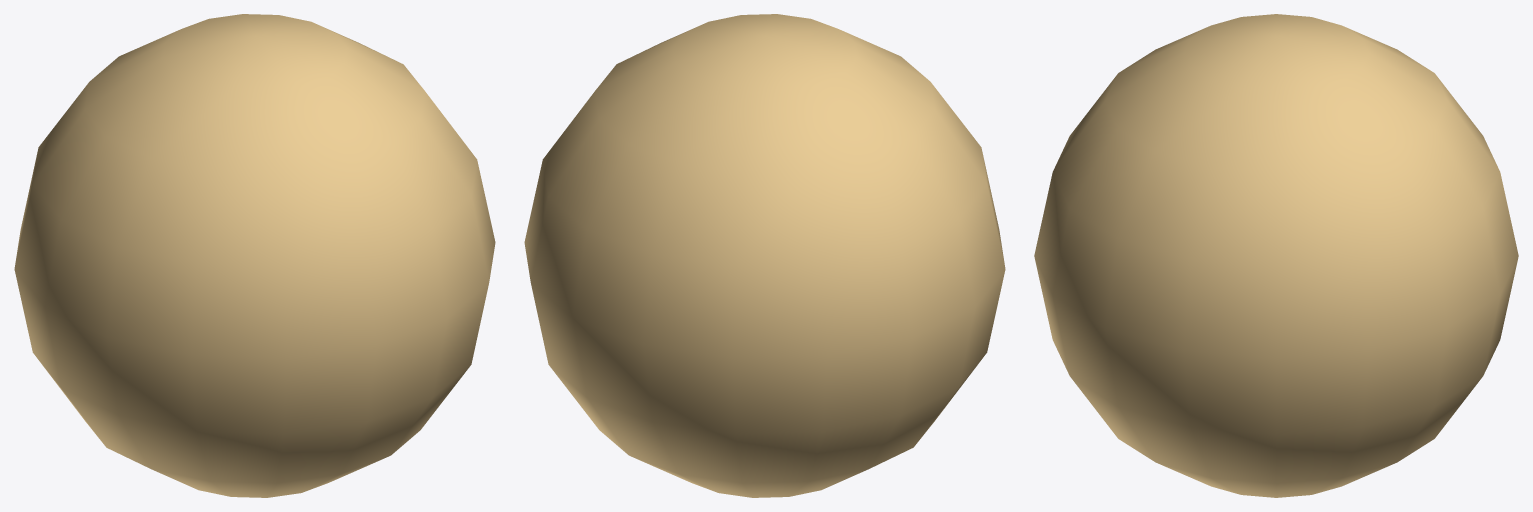
File: 家园设计组-processed.gltf
3 renders of one model, left to right at view 1: azimuth 30°, elevation 25°; view 2: azimuth 150°, elevation 25°; view 3: azimuth 270°, elevation 25°, orthographic.
Visible parts, largest first — view 1: 球体; view 2: 球体; view 3: 球体.
Part boxes in pixels (x1,y1,x2,y2): 球体: (14, 14, 495, 497); 球体: (524, 14, 1005, 497); 球体: (1034, 14, 1518, 497).
Size of the model in its own units: 64.57 by 64.57 by 64.57.
